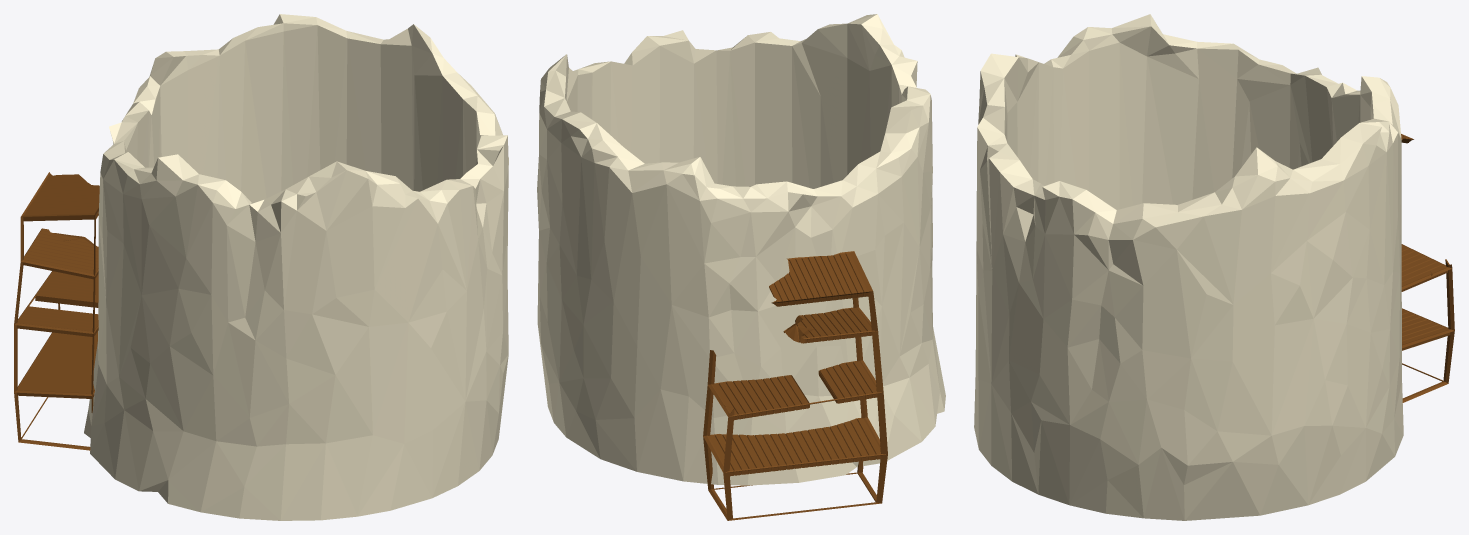
Rendered from SpareTower.fbx.
3 renders of one model, left to right at view 1: azimuth 30°, elevation 25°; view 2: azimuth 150°, elevation 25°; view 3: azimuth 270°, elevation 25°, orthographic. The views are drawn at different scales.
Parts seen in each view (by area): view 1: SpareTower; view 2: SpareTower; view 3: SpareTower.
Boxes of the visible parts, box(x1,y1,x2,y2) form: SpareTower: box(14, 14, 508, 520); SpareTower: box(537, 14, 945, 520); SpareTower: box(974, 14, 1454, 520).
Size of the model in its own units: 1733 by 1461 by 1730.
